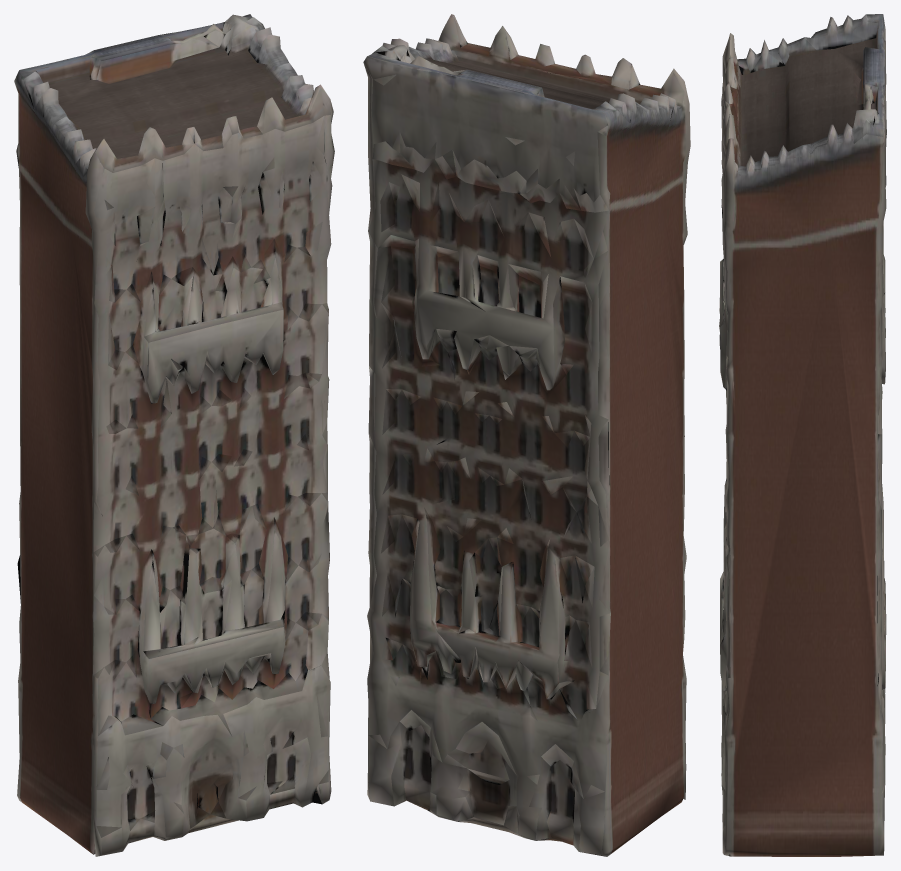
Rendered from chicago_athletic_assoc.glb.
The picture shows the model from 3 angles, left to right: view 1: azimuth 30°, elevation 25°; view 2: azimuth 150°, elevation 25°; view 3: azimuth 270°, elevation 25°; orthographic projection. The views are drawn at different scales.
Visible parts, largest first — view 1: chicago_athletic_assoc; view 2: chicago_athletic_assoc; view 3: chicago_athletic_assoc.
Part boxes in pixels (<box>): chicago_athletic_assoc: <box>14,14,334,856</box>; chicago_athletic_assoc: <box>363,14,690,856</box>; chicago_athletic_assoc: <box>719,14,886,856</box>.
Size of the model in its own units: 24 by 68 by 14.
1 material, 1 textured.
